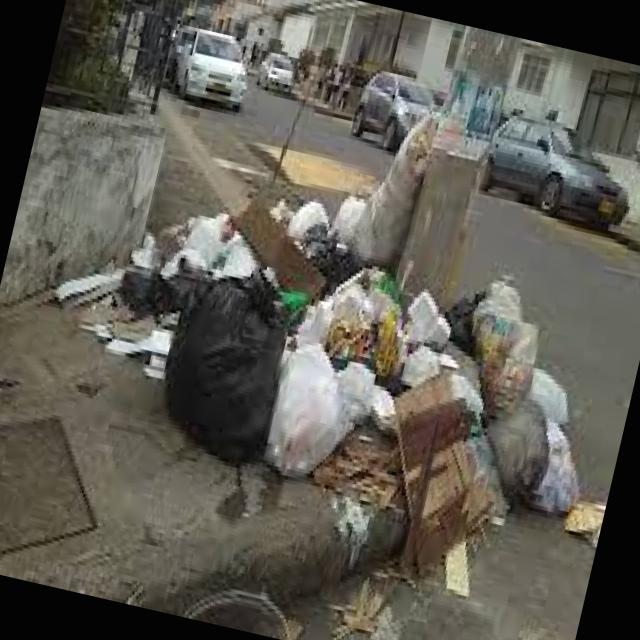garbage: (55, 47, 640, 531)
